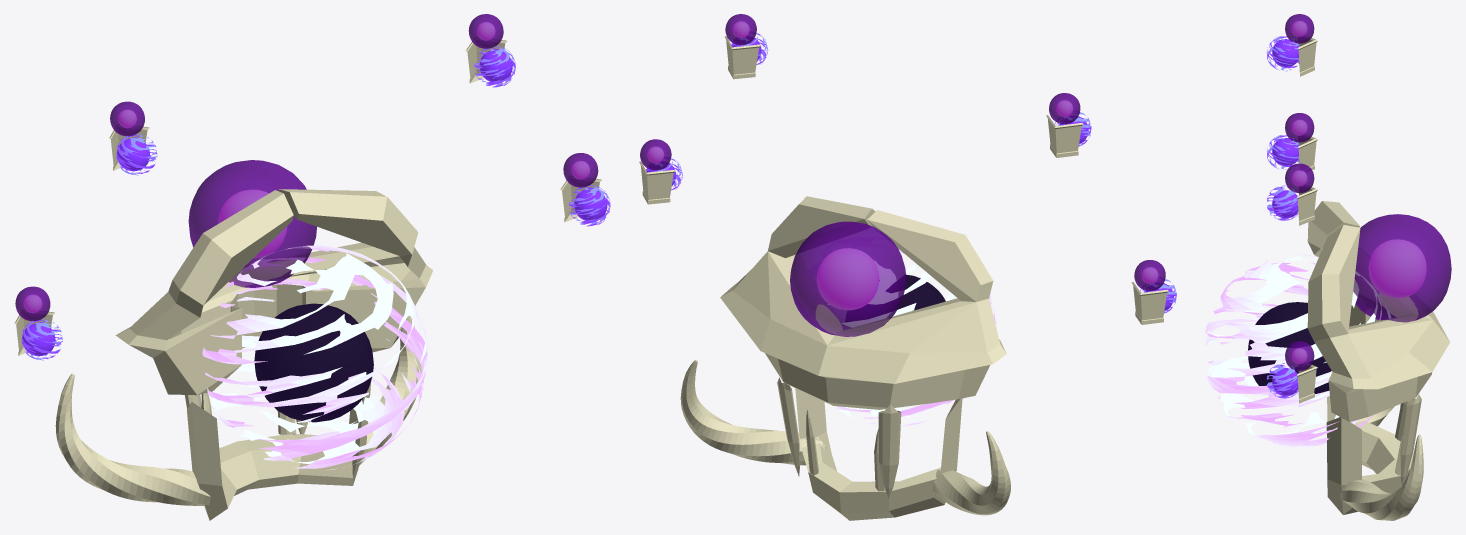
File: beholder.fbx
3 renders of one model, left to right at view 1: azimuth 30°, elevation 25°; view 2: azimuth 150°, elevation 25°; view 3: azimuth 270°, elevation 25°, orthographic. The views are drawn at different scales.
Visible parts, largest first — view 1: Cube, Cube.004, Cube.009, Cube.010, Cube.001, Cube.005, Cube.003, Cube.002, Cube.012; view 2: Cube, Cube.001, Cube.009, Cube.005, Cube.003, Cube.002, Cube.012, Cube.007, Cube.004, Cube.010, Cube.008; view 3: Cube, Cube.004, Cube.001, Cube.009, Cube.002, Cube.003, Cube.005, Cube.012, Cube.010, Cube.007, Cube.008.
Boxes of the visible parts, box(x1,y1,x2,y2) form: Cube: box(115, 189, 432, 395); Cube.004: box(202, 245, 428, 470); Cube.009: box(187, 381, 371, 520); Cube.010: box(254, 303, 373, 422); Cube.001: box(188, 160, 316, 287); Cube.005: box(55, 316, 421, 505); Cube.003: box(14, 153, 610, 360); Cube.002: box(109, 14, 515, 175); Cube.012: box(218, 190, 286, 257); Cube: box(720, 196, 1006, 409); Cube.001: box(790, 221, 906, 336); Cube.009: box(795, 388, 962, 520); Cube.005: box(680, 360, 1010, 515); Cube.003: box(639, 139, 1176, 324); Cube.002: box(724, 14, 1091, 157); Cube.012: box(817, 248, 879, 309); Cube.007: box(777, 377, 901, 498); Cube.004: box(828, 251, 996, 426); Cube.010: box(897, 274, 945, 310); Cube.008: box(806, 409, 885, 491); Cube: box(1307, 201, 1450, 421); Cube.004: box(1205, 255, 1390, 447); Cube.001: box(1353, 214, 1451, 322); Cube.009: box(1326, 396, 1413, 514); Cube.002: box(1266, 14, 1317, 225); Cube.003: box(1267, 113, 1317, 403); Cube.005: box(1340, 406, 1423, 520); Cube.012: box(1369, 239, 1426, 297); Cube.010: box(1248, 302, 1331, 393); Cube.007: box(1400, 394, 1421, 485); Cube.008: box(1395, 400, 1410, 475).
Bounding box in the file's own units: 520 × 400 × 221.
